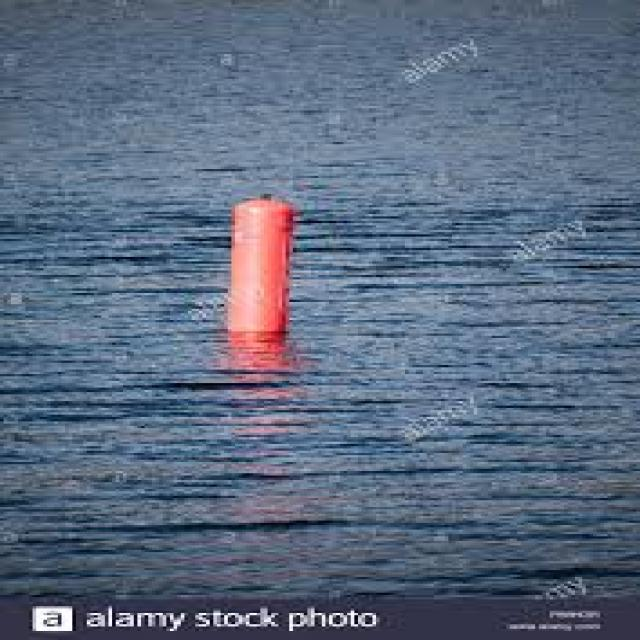buoy: (203, 169, 316, 354)
